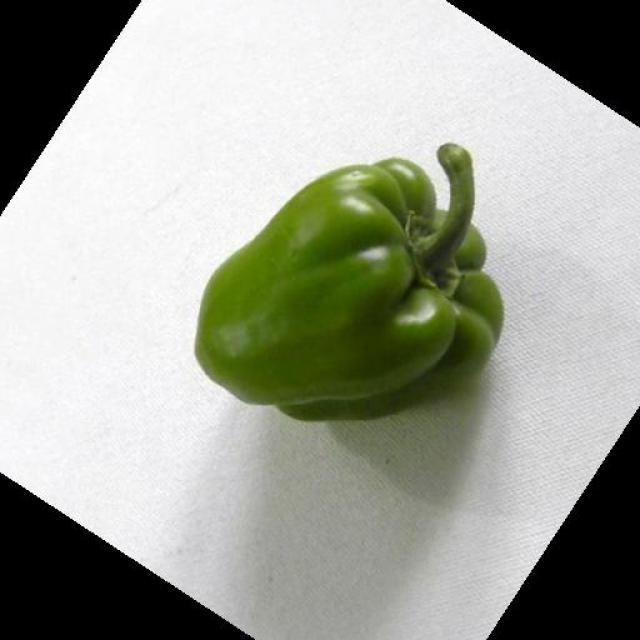Fresh_Capsicum: (222, 132, 530, 432)
